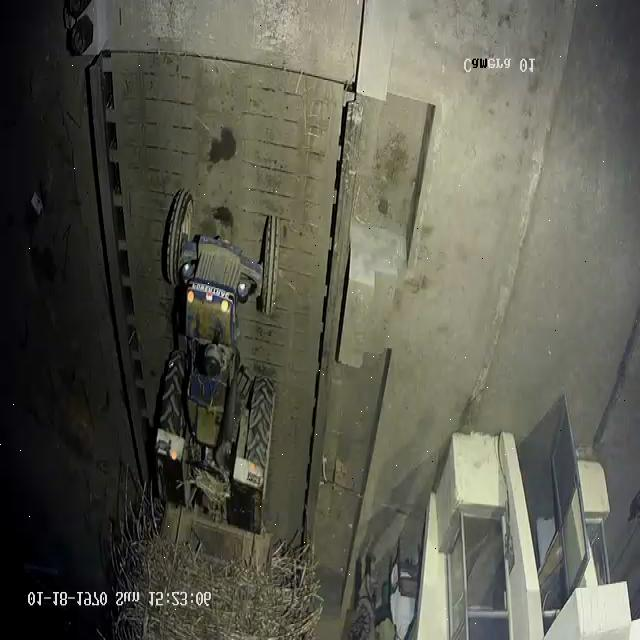Tratores - v5 YOLO V8L 2024-11-13: (146, 191, 287, 554)
